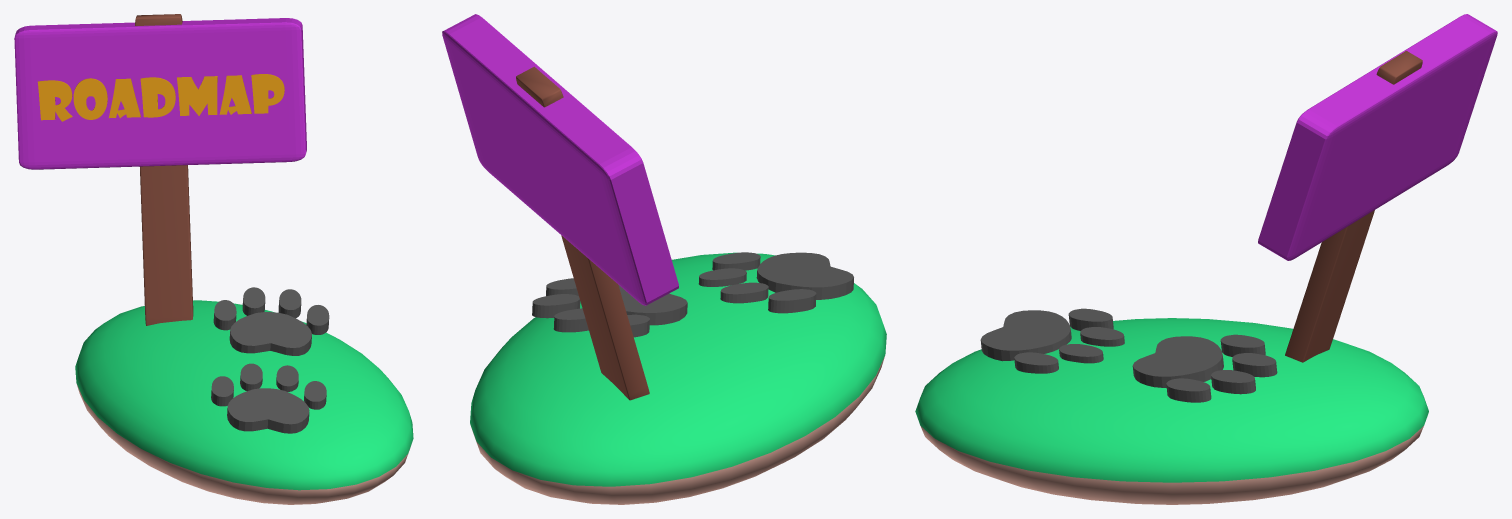
Rendered from WEB3_MENU(1MESH)_R.gltf.
The picture shows the model from 3 angles, left to right: view 1: azimuth 30°, elevation 25°; view 2: azimuth 150°, elevation 25°; view 3: azimuth 270°, elevation 25°; orthographic projection. The views are drawn at different scales.
Parts seen in each view (by area): view 1: Sign3; view 2: Sign3; view 3: Sign3.
Boxes of the visible parts, x1,y1,x2,y2 form: Sign3: (14, 14, 413, 504); Sign3: (442, 14, 886, 504); Sign3: (915, 14, 1497, 504).
Bounding box in the file's own units: 0.9751 × 1.34 × 1.68.
